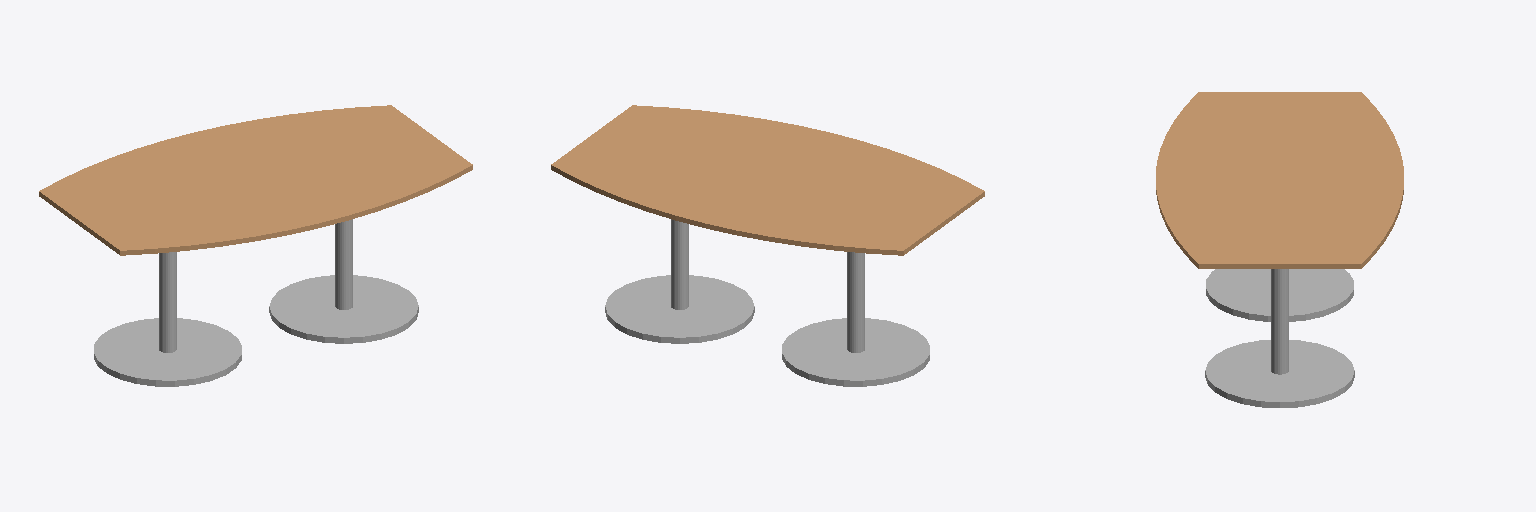
The model's file is Meeting-Tisch.obj.
The picture shows the model from 3 angles: view 1: azimuth 30°, elevation 25°; view 2: azimuth 150°, elevation 25°; view 3: azimuth 270°, elevation 25°; orthographic projection.
Visible parts, largest first — view 1: Mesh1 Component_4_1 Model, Mesh3 Component_4_1 Model, Mesh2 Component_4_1 Model; view 2: Mesh1 Component_4_1 Model, Mesh3 Component_4_1 Model, Mesh2 Component_4_1 Model; view 3: Mesh1 Component_4_1 Model, Mesh2 Component_4_1 Model, Mesh3 Component_4_1 Model.
Part boxes in pixels (bbox=[...]): Mesh1 Component_4_1 Model: bbox=[39, 105, 472, 255]; Mesh3 Component_4_1 Model: bbox=[94, 252, 241, 386]; Mesh2 Component_4_1 Model: bbox=[269, 219, 418, 343]; Mesh1 Component_4_1 Model: bbox=[551, 105, 984, 255]; Mesh3 Component_4_1 Model: bbox=[782, 252, 929, 386]; Mesh2 Component_4_1 Model: bbox=[605, 219, 754, 343]; Mesh1 Component_4_1 Model: bbox=[1156, 92, 1403, 268]; Mesh2 Component_4_1 Model: bbox=[1205, 269, 1354, 407]; Mesh3 Component_4_1 Model: bbox=[1206, 269, 1353, 321].
Size of the model in its own units: 1.8 by 0.76 by 1.1.